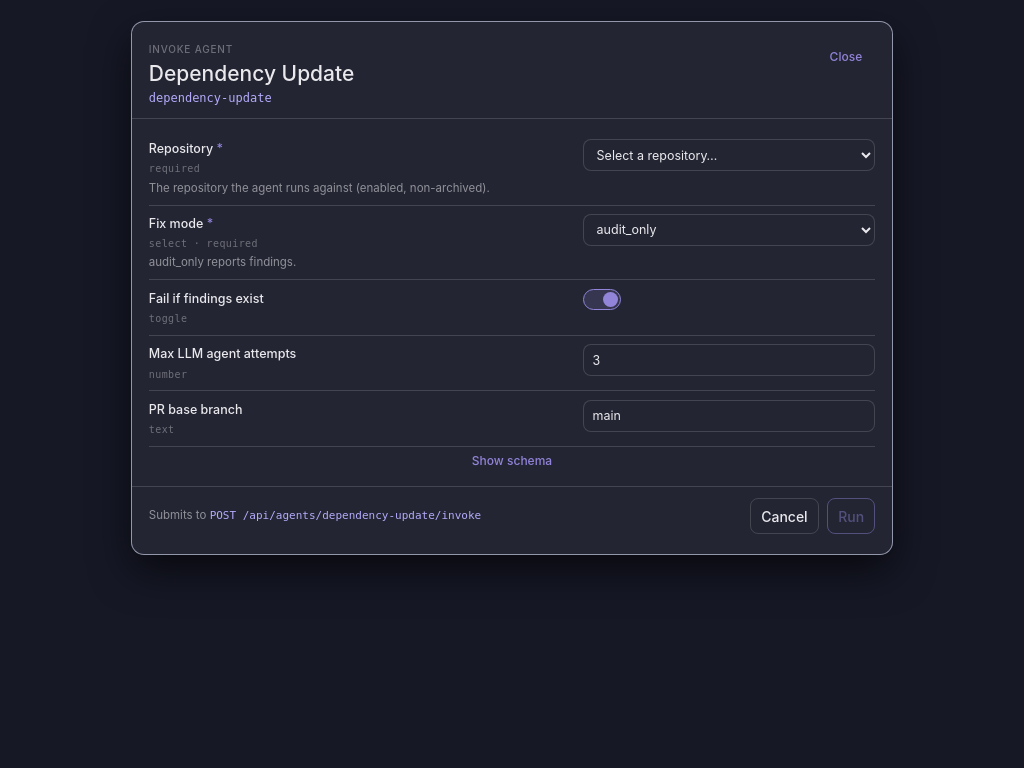
it: InvokeDialog — error rendering › renders a banner for CREDENTIALS_UNAVAILABLE (server error)
Select "acme/web" in the dropdown labelled "Repository *": [729, 155] box [583,139,875,171]
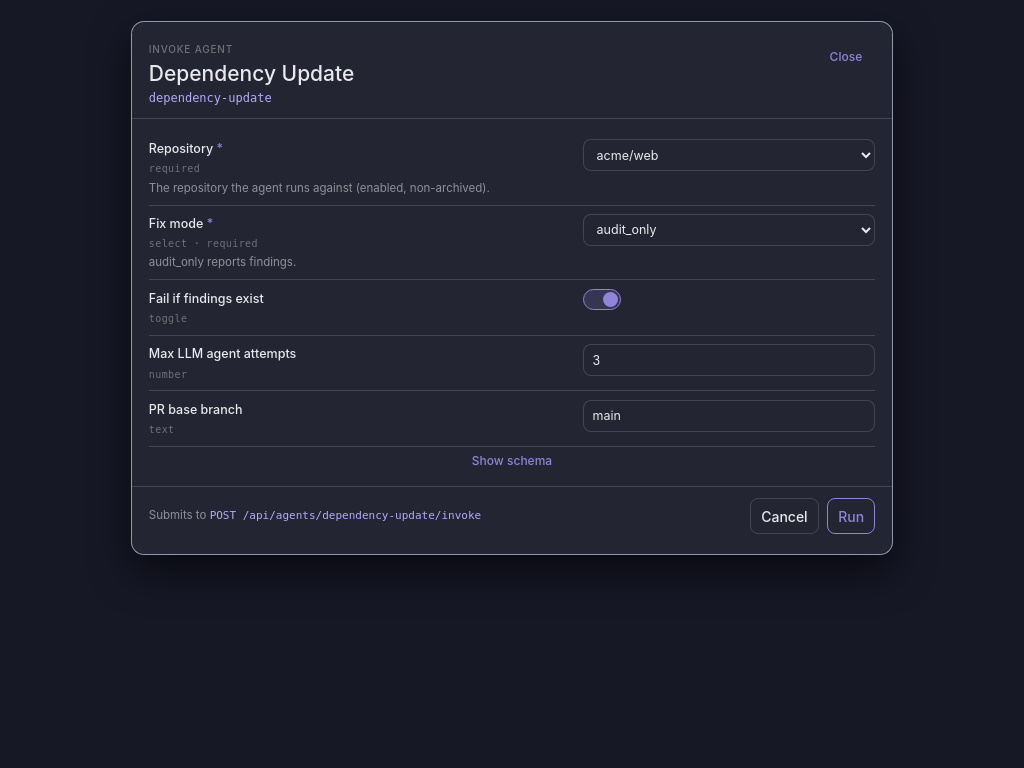
Click the button "Run": [851, 516] box [827,498,875,534]
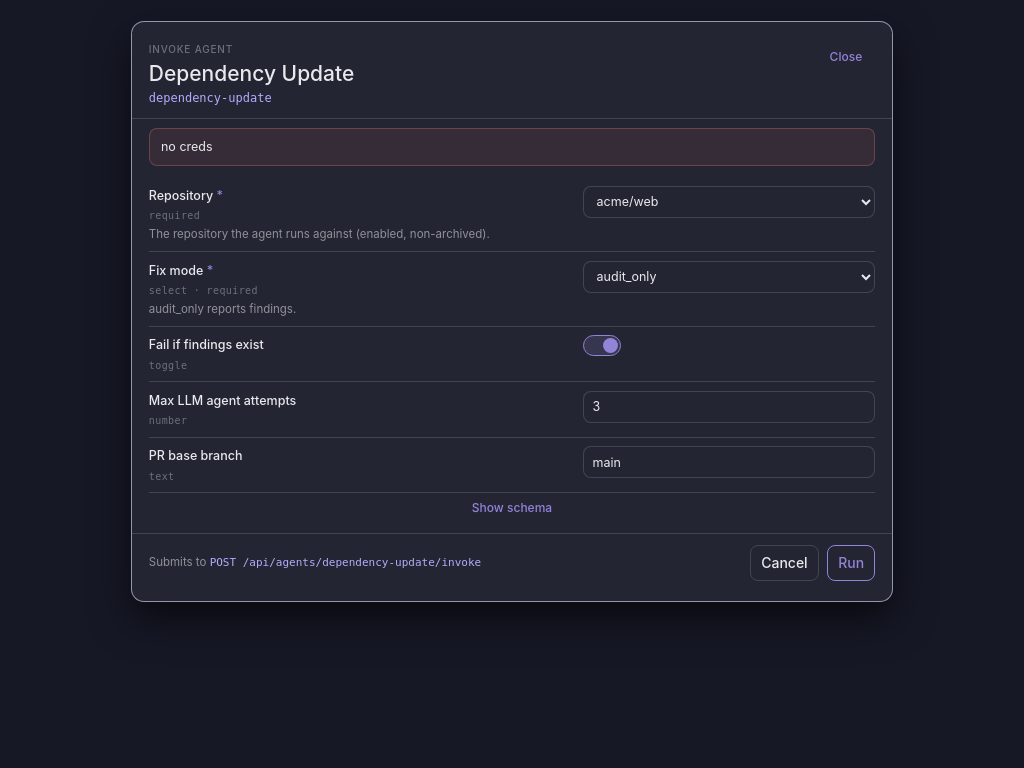
Expected: the message reads "no creds", [161,139,213,154]
